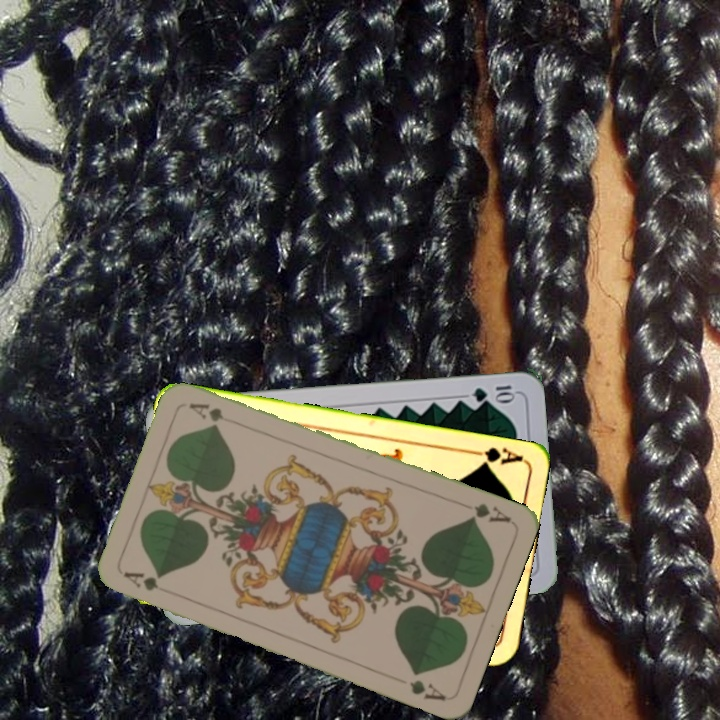G10: (469, 381, 517, 404)
GA: (465, 443, 524, 469), (466, 499, 514, 526), (120, 568, 161, 594)
